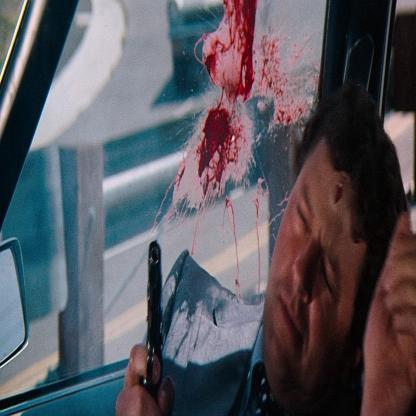gun: (139, 230, 169, 416)
